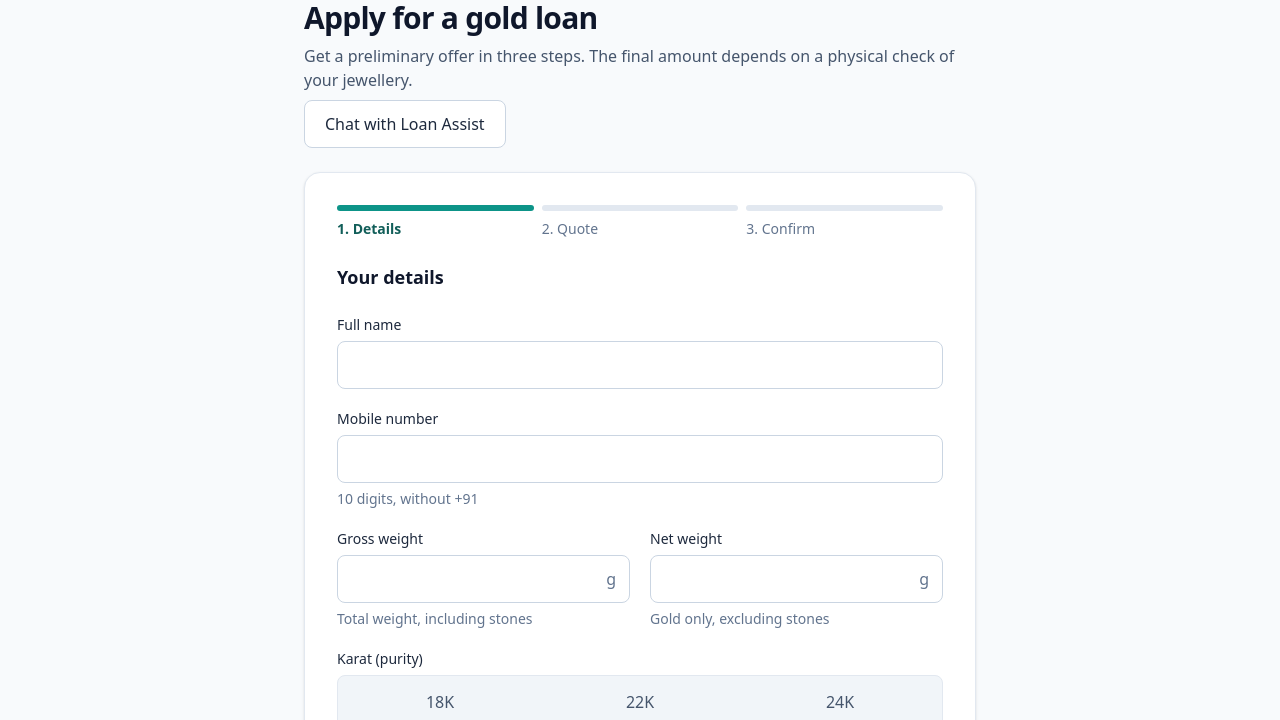
Test: Loan Assist panel › renders a quote card from the tool result, not from the model text
Click the button "Chat with Loan Assist".
click(405, 124)  # box top-left (304, 100), bottom-right (506, 148)
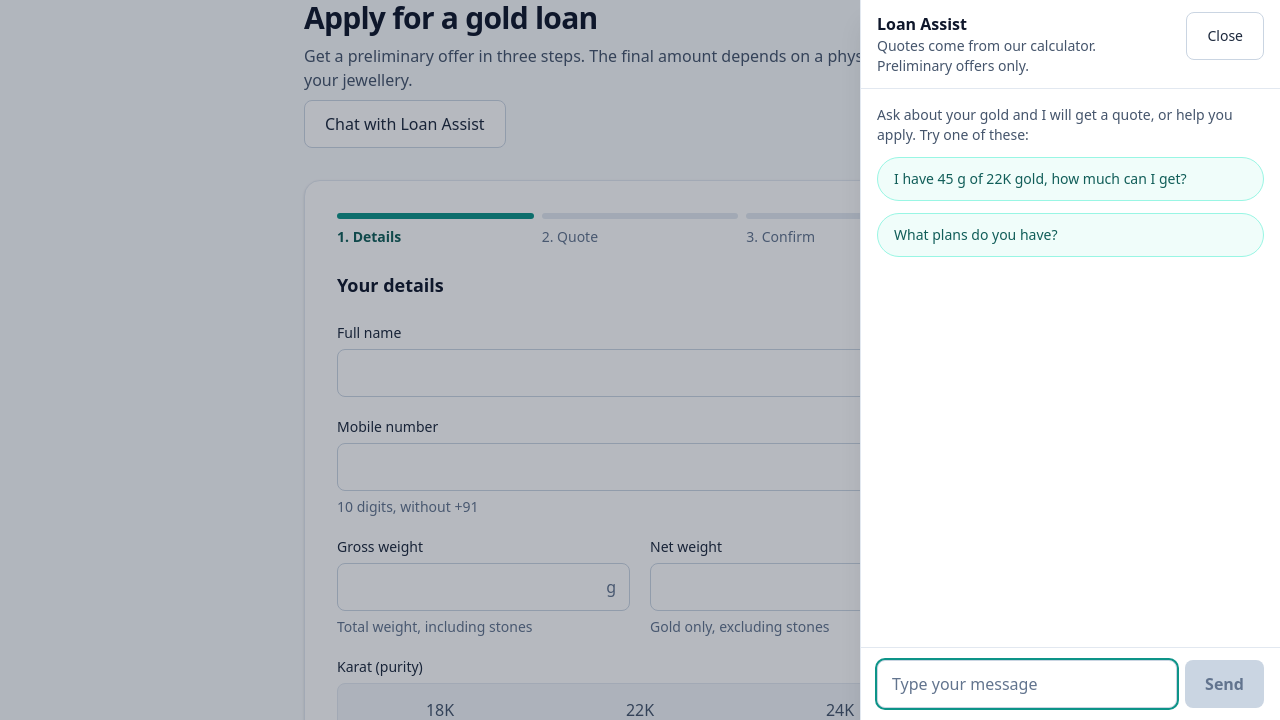
Type "45 g 22K" into the field named "Message Loan Assist".
click(1027, 684); type("45 g 22K")  # box top-left (877, 660), bottom-right (1177, 708)
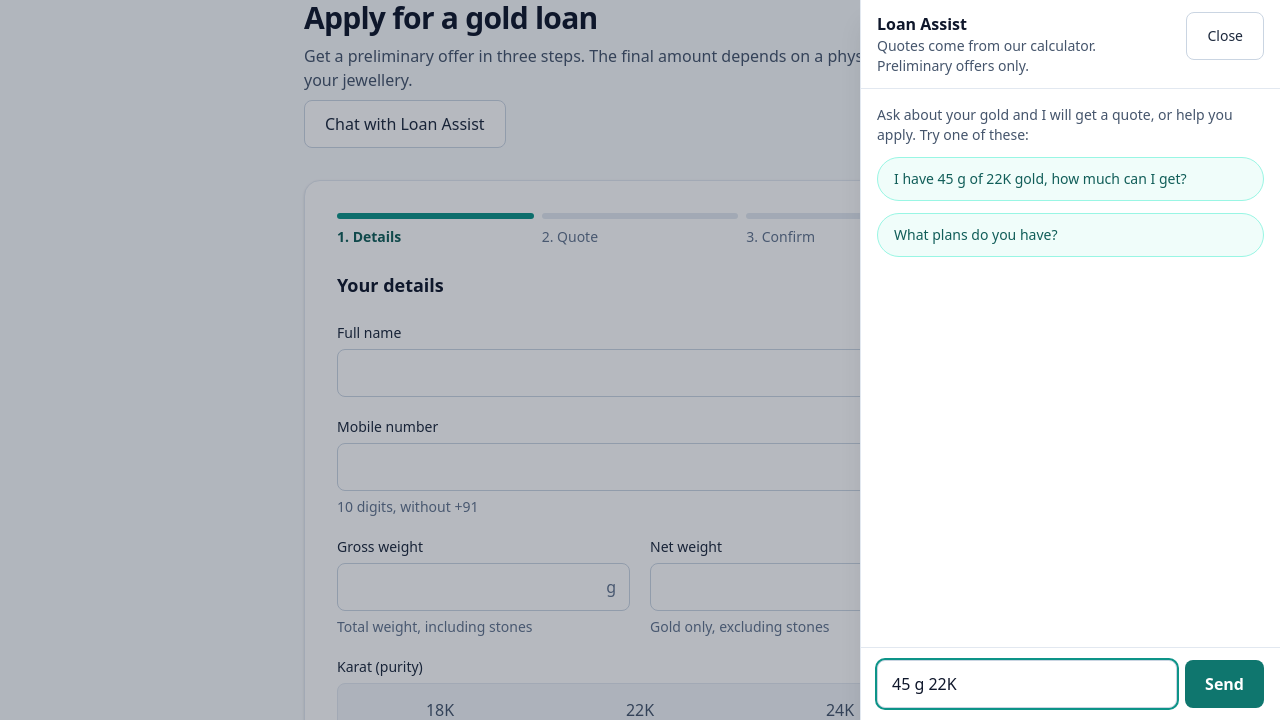
Submit the form named "Message Loan Assist", box top-left (861, 647), bottom-right (1279, 719)
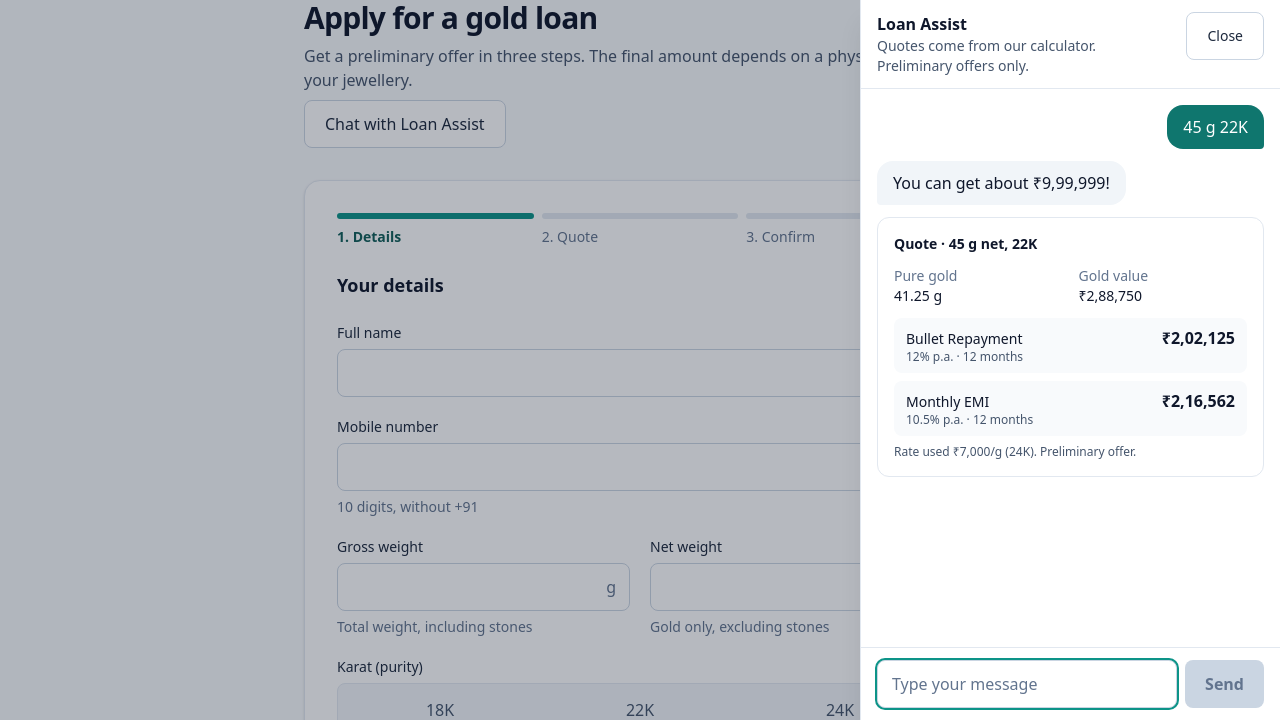
Expected: the text "41.25 g" is shown, top-left (894, 286), bottom-right (942, 305)
Expected: the text "₹2,88,750" is shown, top-left (1078, 286), bottom-right (1142, 305)
Expected: the text "₹2,16,562" is shown, top-left (1162, 389), bottom-right (1235, 413)
